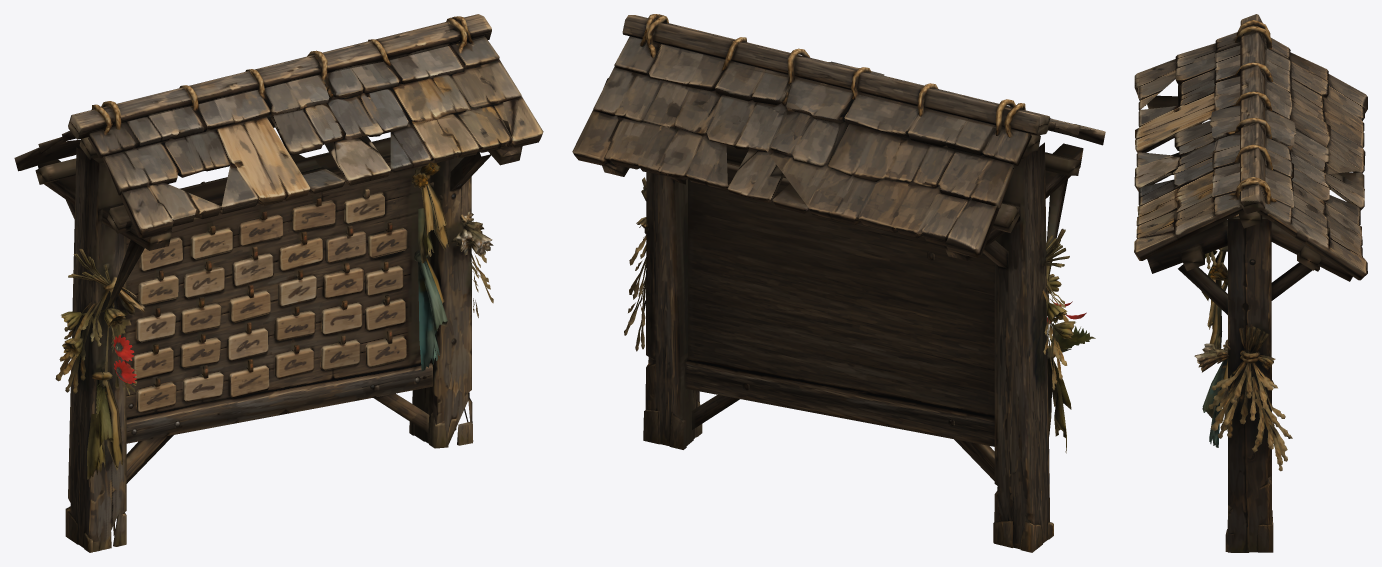
Rendered from act1_extras_v1_name_board_variant2.glb.
3 views of the same model, side by side, from view 1: azimuth 30°, elevation 25°; view 2: azimuth 150°, elevation 25°; view 3: azimuth 270°, elevation 25° (orthographic). The views are drawn at different scales.
Parts seen in each view (by area): view 1: ada5006c_8ddd_4eb2_8d11_4771bfc299c8; view 2: ada5006c_8ddd_4eb2_8d11_4771bfc299c8; view 3: ada5006c_8ddd_4eb2_8d11_4771bfc299c8.
Part boxes in pixels (x1,y1,x2,y2): ada5006c_8ddd_4eb2_8d11_4771bfc299c8: [14, 14, 543, 552]; ada5006c_8ddd_4eb2_8d11_4771bfc299c8: [572, 14, 1105, 552]; ada5006c_8ddd_4eb2_8d11_4771bfc299c8: [1134, 14, 1367, 552].
Bounding box in the file's own units: 0.9995 × 0.9595 × 0.521.
1 material, 1 textured.
